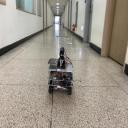cart: (47, 60, 74, 96)
